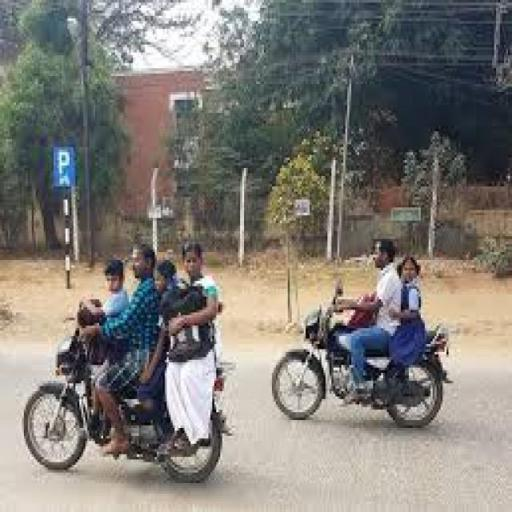no helmet: (360, 228, 396, 290), (128, 243, 162, 299)
triple riding: (20, 244, 219, 467)
